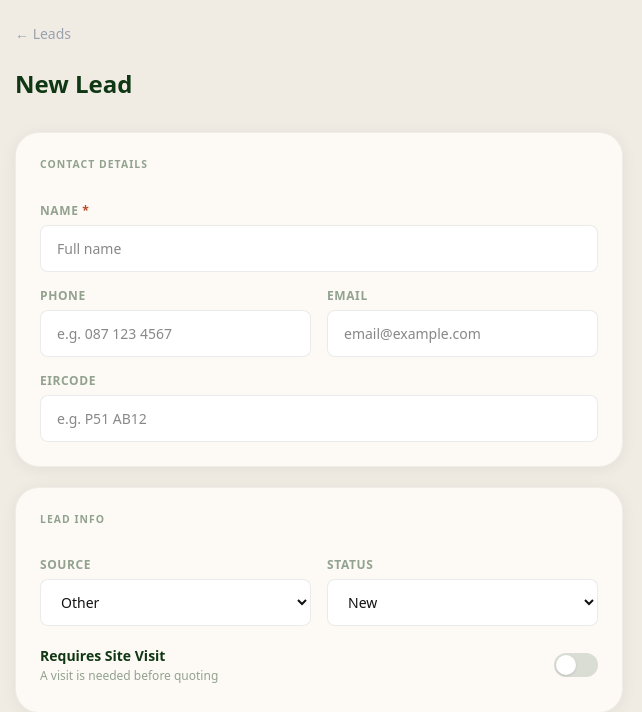
Test: LeadForm — Add mode › validates email format
This screenshot has width=642, height=712.
In the field with placeholder "Full name": [319, 248] box [40,225,598,272], type "Pat"
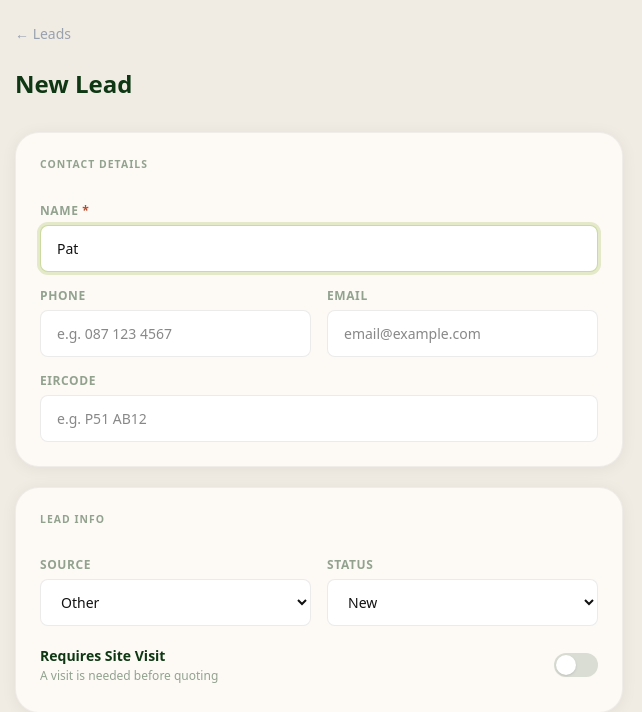
In the field with placeholder "email@example.com": [462, 333] box [327,310,598,357], type "notvalid"
(page scrolled)
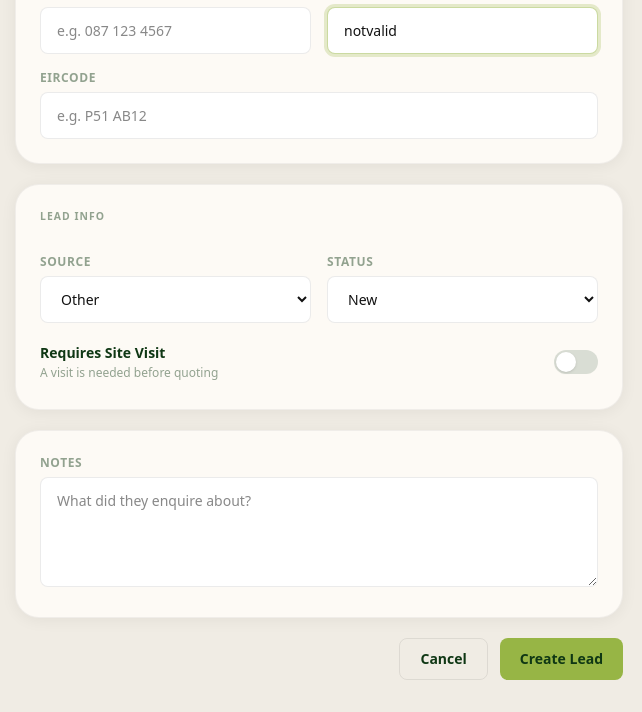
Click the button "Create Lead": [561, 659] box [500,638,623,680]
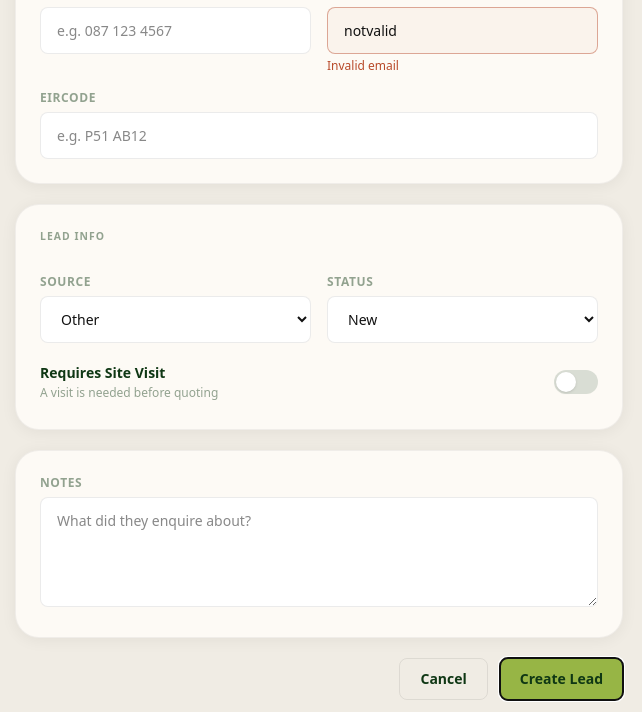
Now the text "Invalid email" is shown, box [327,57,399,74]
